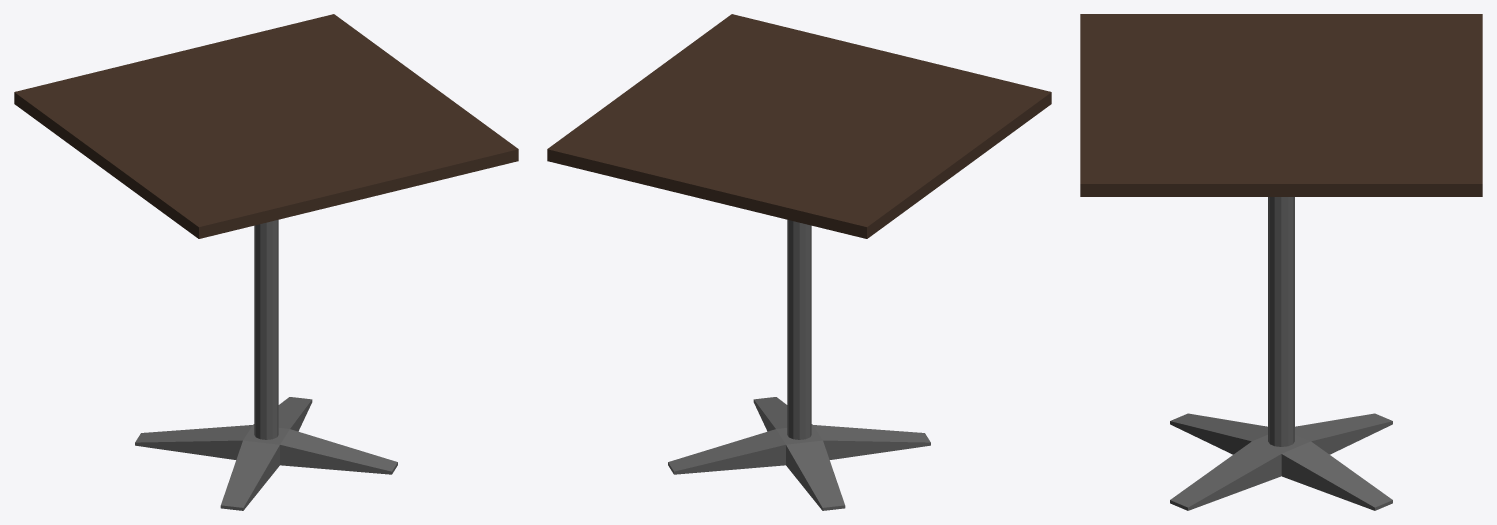
File: CafeTable.fbx
The picture shows the model from 3 angles, left to right: view 1: azimuth 30°, elevation 25°; view 2: azimuth 150°, elevation 25°; view 3: azimuth 270°, elevation 25°; orthographic projection. The views are drawn at different scales.
Visible parts, largest first — view 1: CafeTable; view 2: CafeTable; view 3: CafeTable.
Part boxes in pixels (x1=…): CafeTable: x1=14, y1=14, x2=518, y2=510; CafeTable: x1=547, y1=14, x2=1051, y2=510; CafeTable: x1=1080, y1=14, x2=1482, y2=510.
Bounding box in the file's own units: 1.2 × 1.2 × 1.2.
